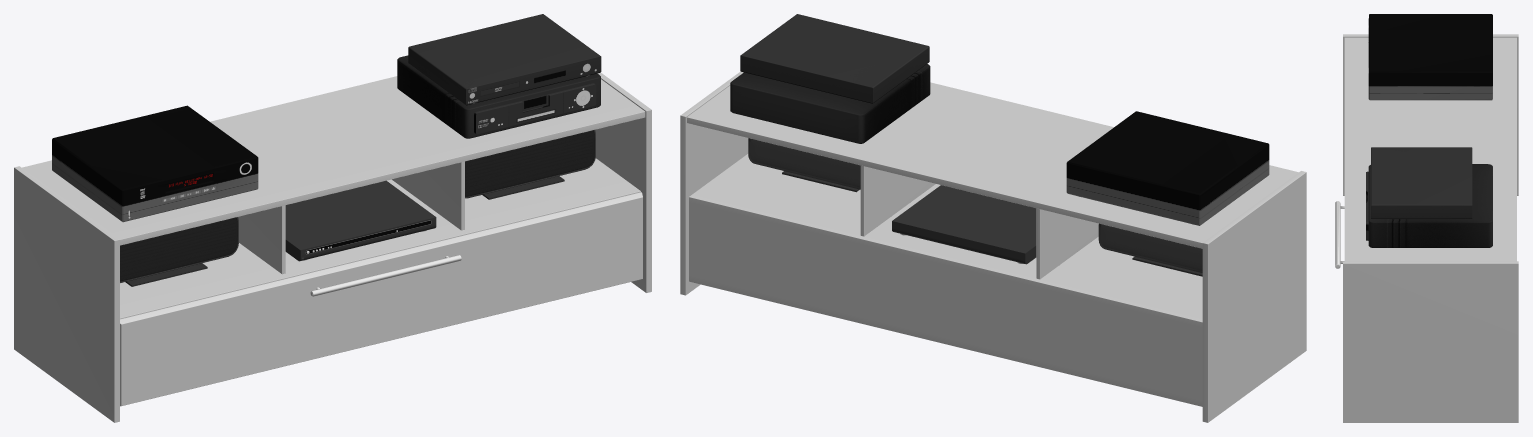
File: TV_Shelf.fbx
3 views of the same model, side by side, from view 1: azimuth 30°, elevation 25°; view 2: azimuth 150°, elevation 25°; view 3: azimuth 270°, elevation 25° (orthographic). The views are drawn at different scales.
Parts seen in each view (by area): view 1: TV_Shelf; view 2: TV_Shelf; view 3: TV_Shelf.
Boxes of the visible parts, bbox=[...] form: TV_Shelf: bbox=[14, 14, 651, 422]; TV_Shelf: bbox=[680, 14, 1306, 422]; TV_Shelf: bbox=[1335, 14, 1518, 422].
Bounding box in the file's own units: 1.53 × 0.6315 × 0.5163.
